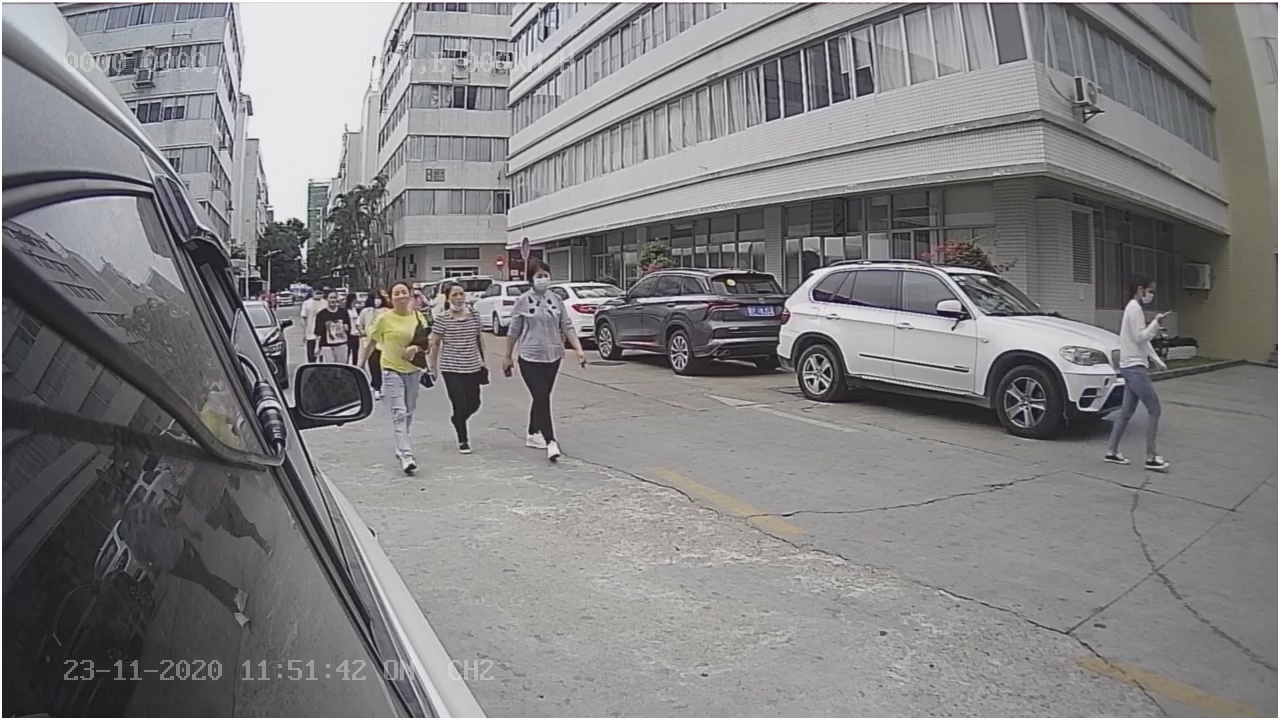person: (501, 253, 591, 461), (1100, 270, 1178, 474), (359, 272, 440, 468)
